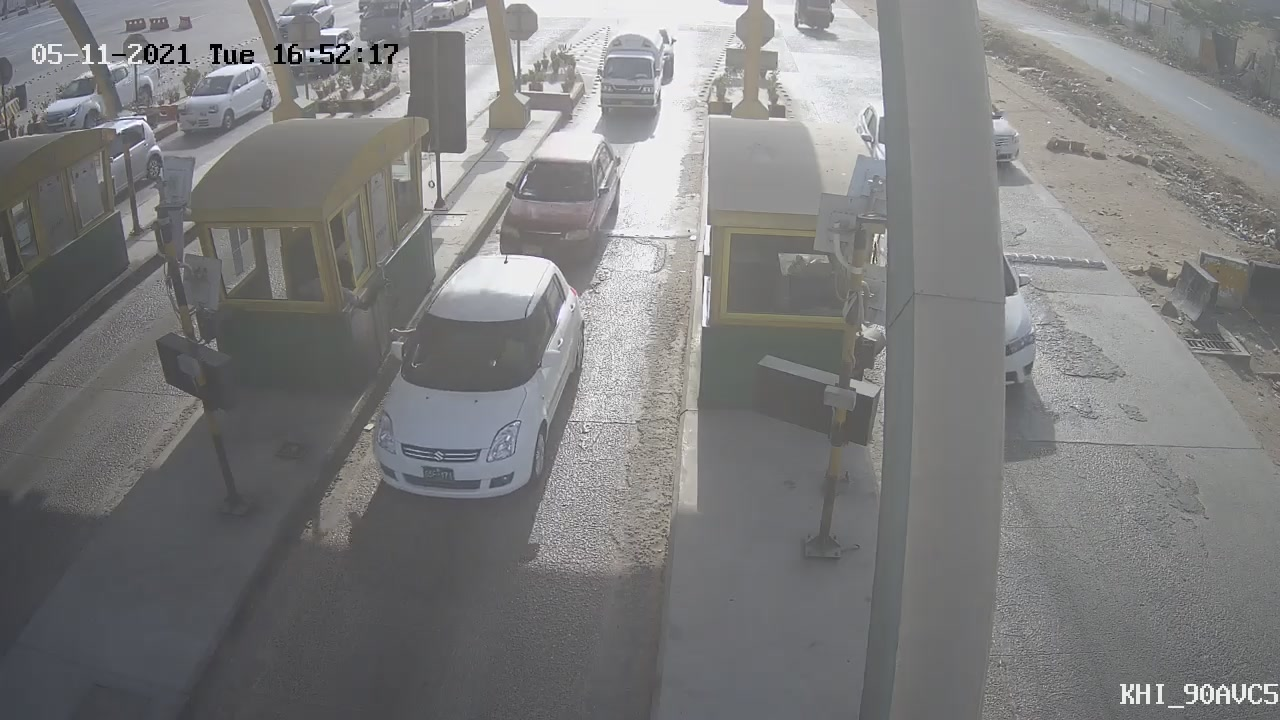F1: (359, 253, 592, 511), (489, 122, 637, 275)
